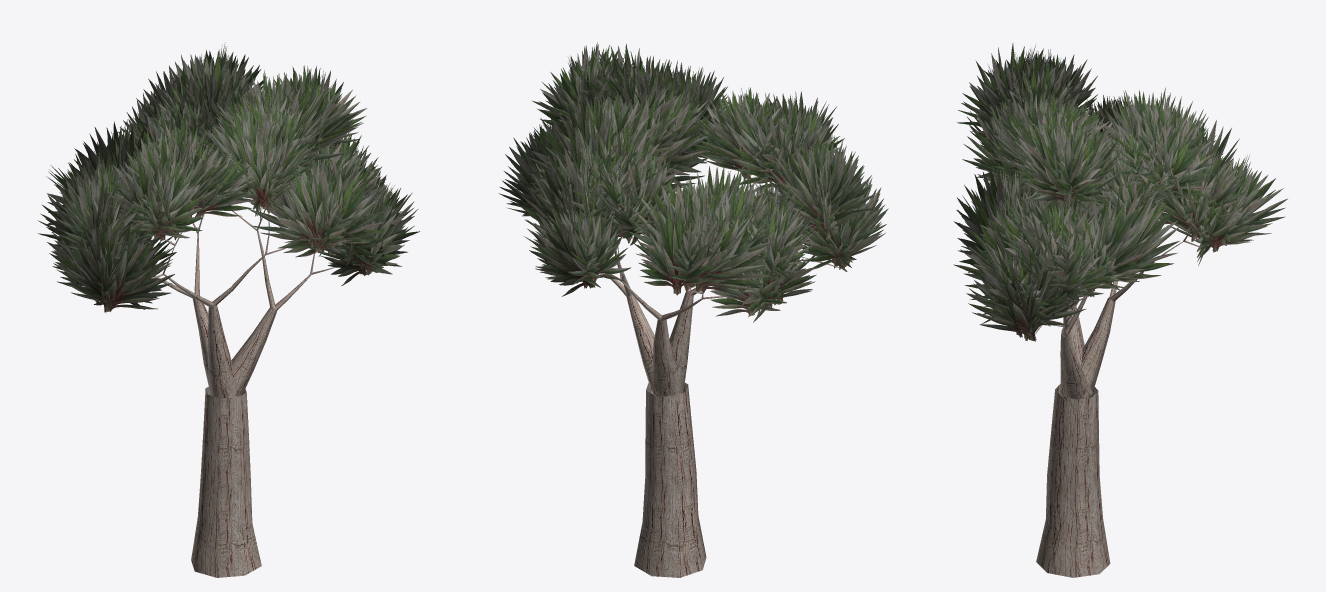
The model's file is nature-red-dragonblood-tree.glb.
3 renders of one model, left to right at view 1: azimuth 30°, elevation 25°; view 2: azimuth 150°, elevation 25°; view 3: azimuth 270°, elevation 25°, orthographic. The views are drawn at different scales.
Parts seen in each view (by area): view 1: nature-red-dragonblood-tree; view 2: nature-red-dragonblood-tree; view 3: nature-red-dragonblood-tree.
Part boxes in pixels (<box>): nature-red-dragonblood-tree: <box>38,42,419,577</box>; nature-red-dragonblood-tree: <box>499,42,888,577</box>; nature-red-dragonblood-tree: <box>953,43,1287,577</box>.
Bounding box in the file's own units: 5.82 × 7.71 × 5.22.
2 materials, 2 textured.
